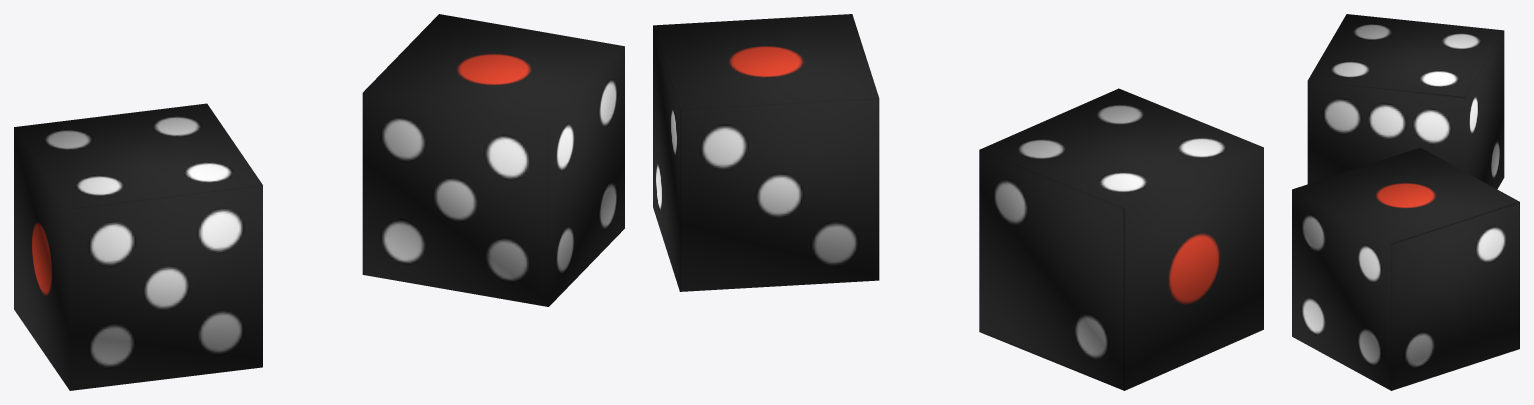
File: DadosEnMesa.obj
3 renders of one model, left to right at view 1: azimuth 30°, elevation 25°; view 2: azimuth 150°, elevation 25°; view 3: azimuth 270°, elevation 25°, orthographic. The views are drawn at different scales.
Parts seen in each view (by area): view 1: Box001, Box002; view 2: Box002, Box001; view 3: Box001, Box002.
Boxes of the visible parts, x1,y1,x2,y2 form: Box001: (362,14,624,306); Box002: (14,103,262,390); Box002: (979,88,1263,390); Box001: (653,14,879,291); Box001: (1292,147,1519,390); Box002: (1307,14,1504,189).
Bounding box in the file's own units: 0.4631 × 0.1384 × 0.1941.
